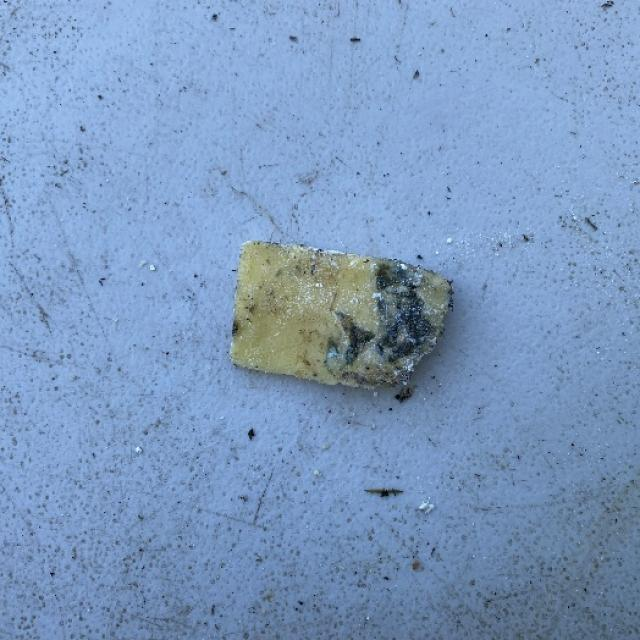organik: (229, 231, 456, 399)
